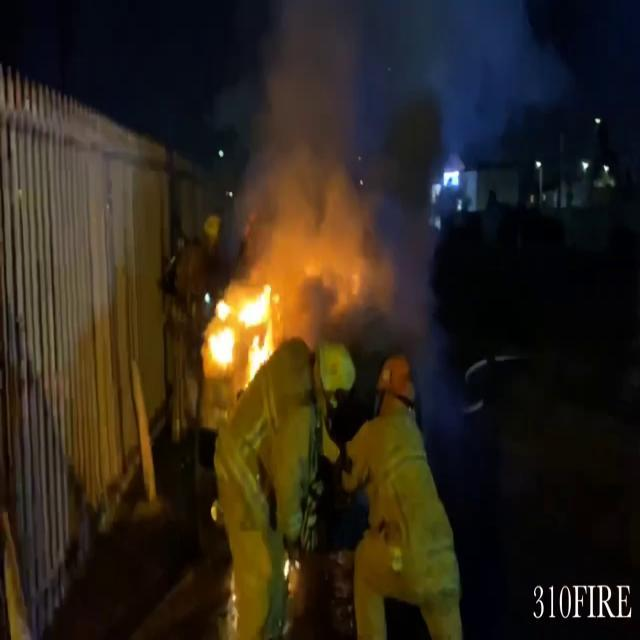Fire: (201, 272, 281, 388)
Smoke: (224, 0, 442, 306)
